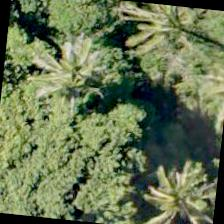Kelapa_Sawit: (17, 20, 116, 119), (117, 1, 213, 72), (131, 150, 221, 223)
